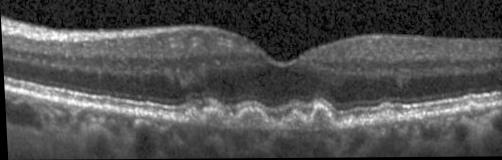retinal_drusen: (283, 108, 332, 133), (373, 108, 403, 126), (236, 109, 264, 128), (182, 107, 204, 127), (204, 110, 228, 128), (266, 118, 276, 130), (469, 104, 480, 112)
